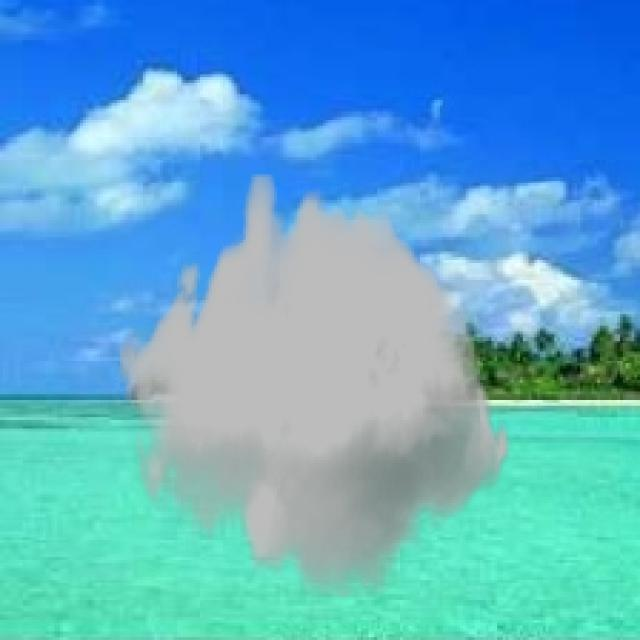smoke: (117, 174, 512, 597)
